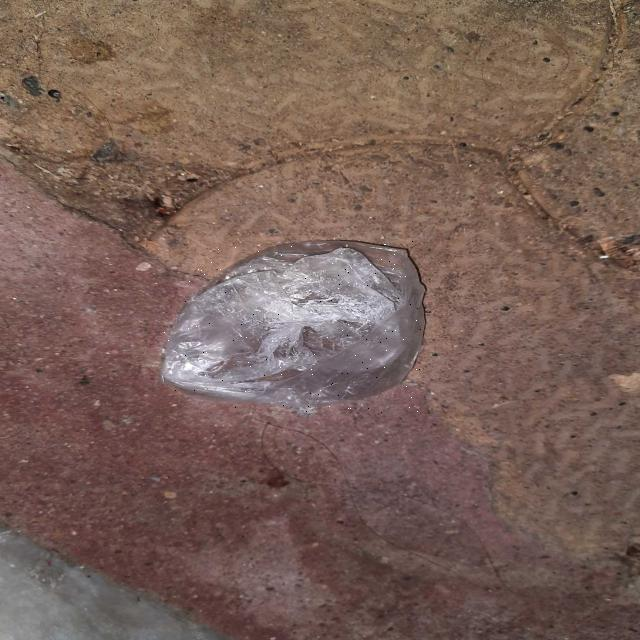plastic: (160, 241, 424, 413)
